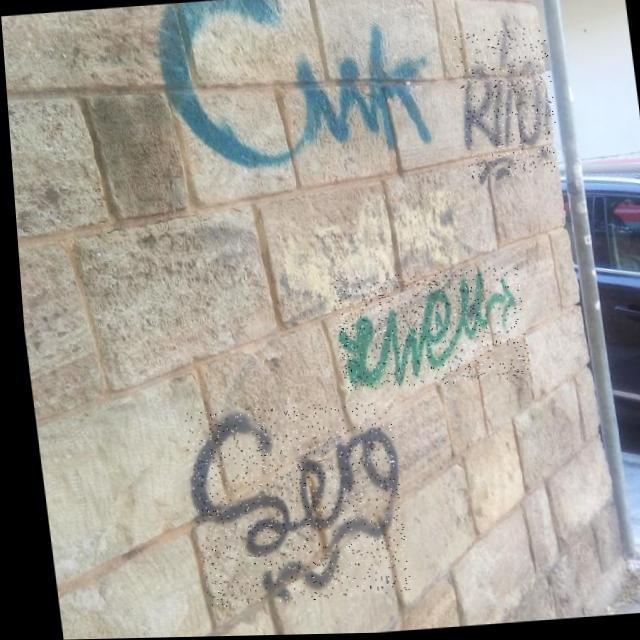-: (176, 400, 404, 610), (152, 0, 432, 171), (326, 268, 526, 393), (450, 27, 560, 182)
